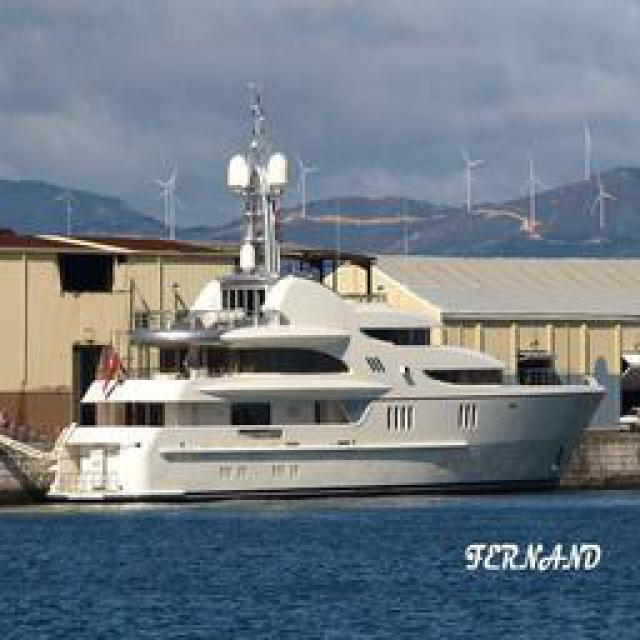Ship: (56, 242, 621, 495)
